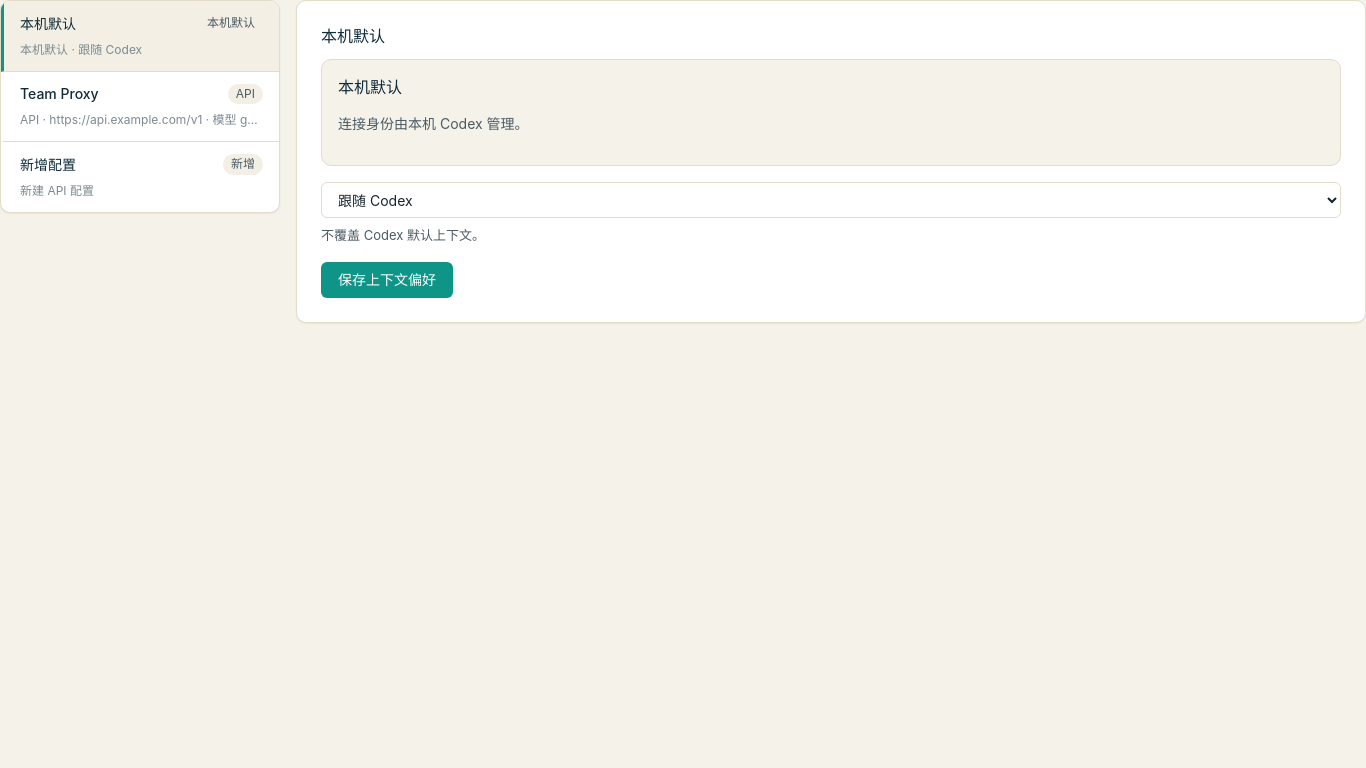
Scenario: CodexProfileSection › keeps api keys empty on edit and allows readonly profiles to change context
This screenshot has width=1366, height=768.
Click the button "Team Proxy".
click(59, 94)  # box [1,72,279,142]
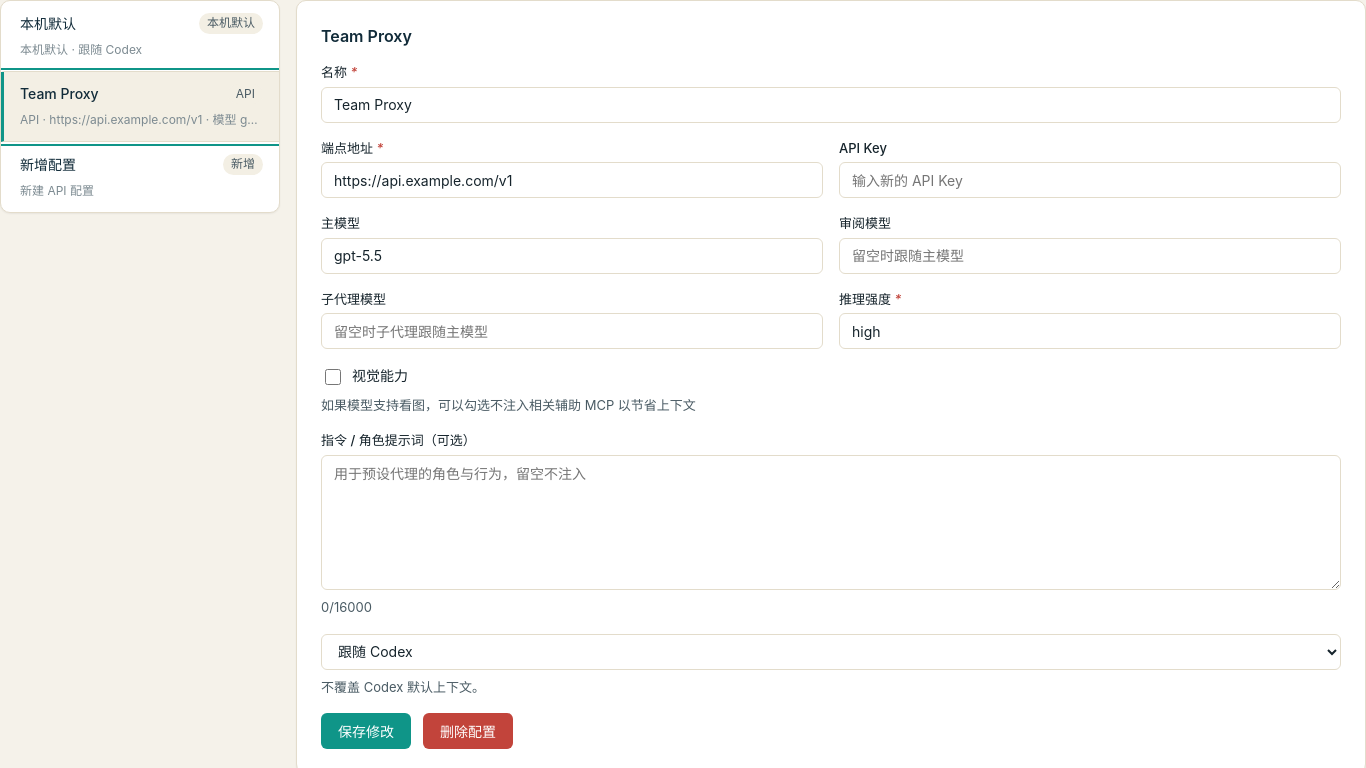
Expected: the password field with placeholder "输入新的 API Key" is empty, [839,162,1341,198]
Replace the text in the field labelled "名称 *" with "Team Proxy 2" at [831, 105], box [321,87,1341,123]
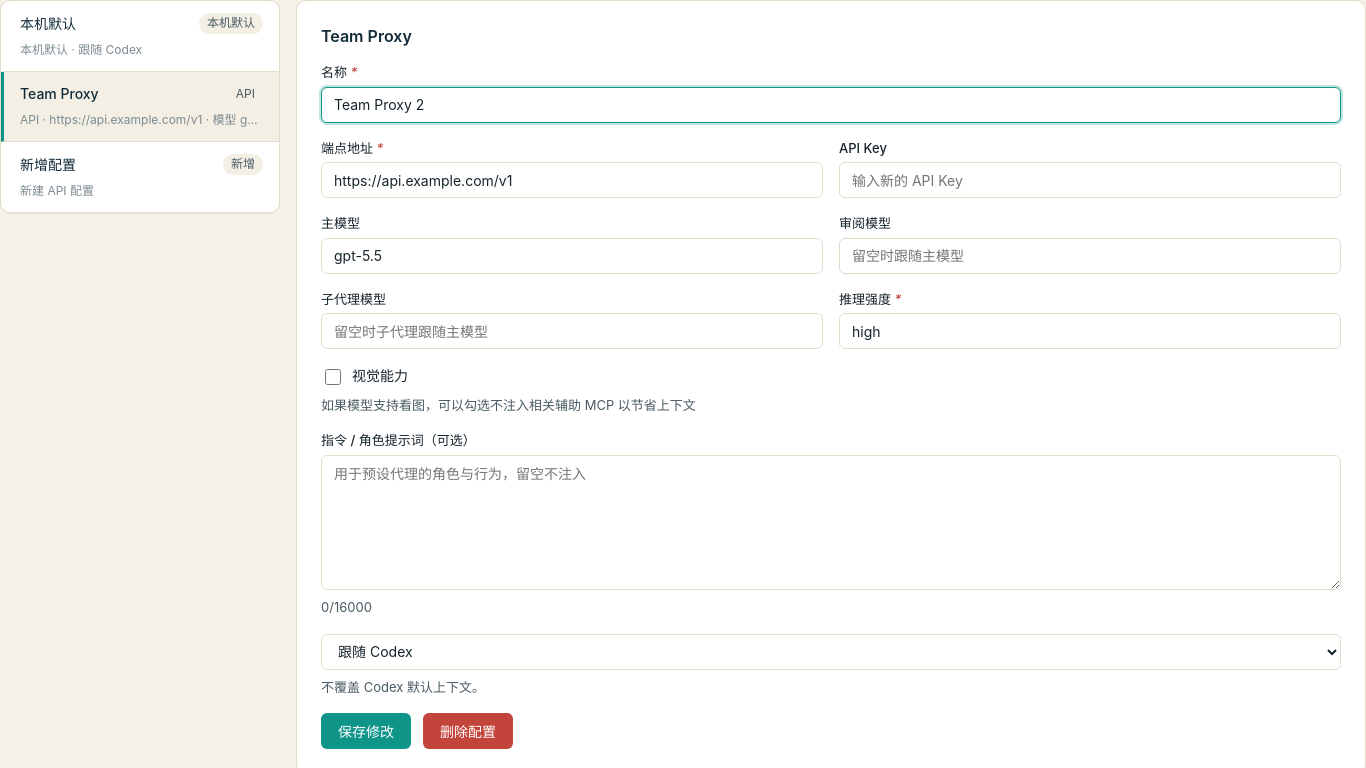
Click the button "保存修改".
click(366, 731)  # box [321,713,411,749]
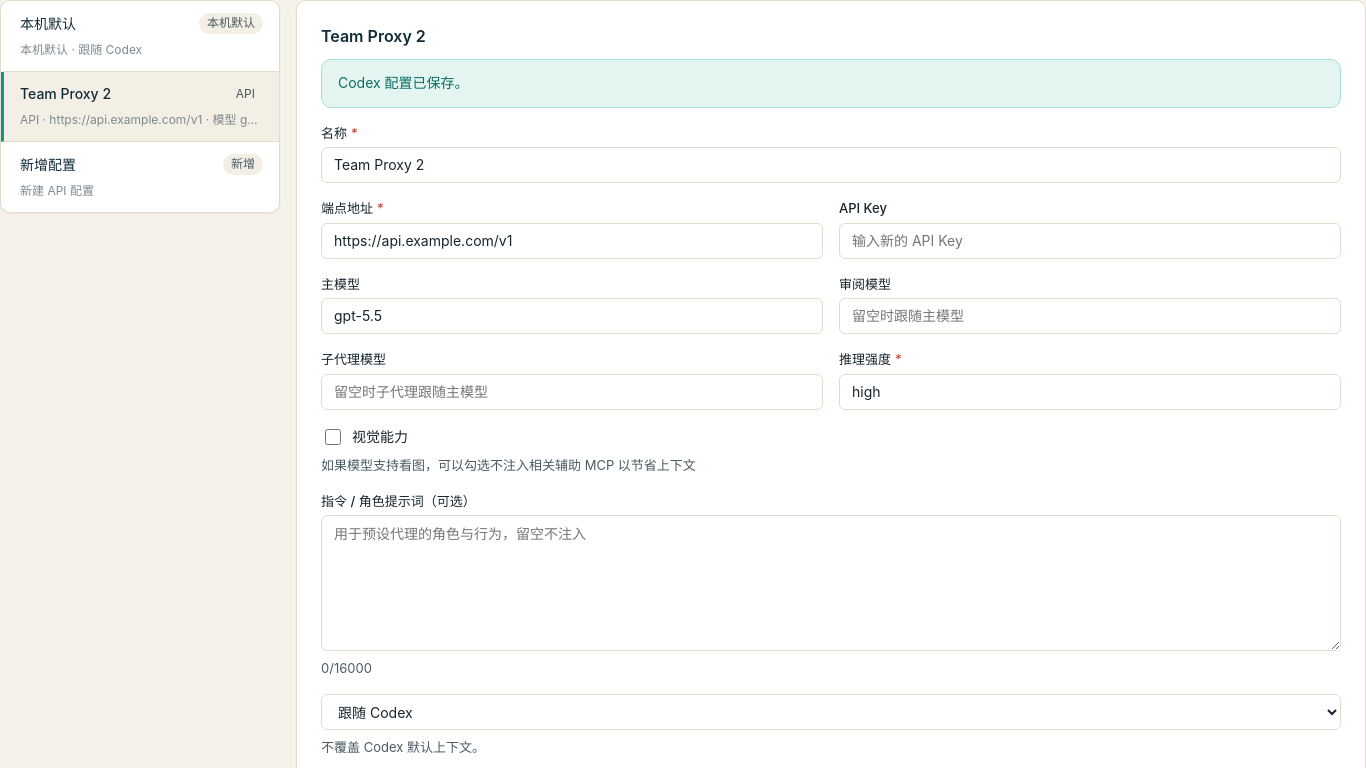
Expected: the text "Codex 配置已保存。" is shown, [321,59,1341,108]
Click the button "本机默认 本机默认 本机默认 · 跟随 Codex".
click(48, 23)  # box [1,1,279,72]
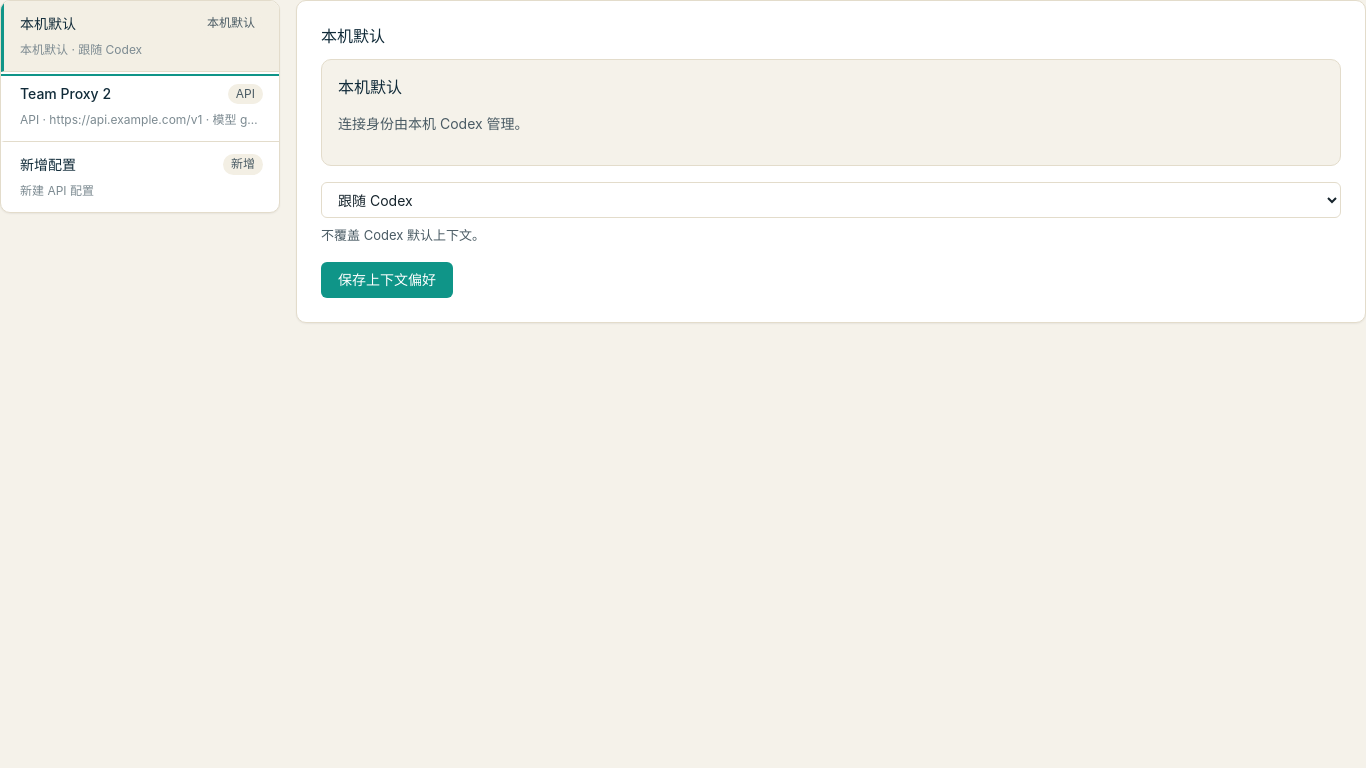
Expected: the text "连接身份由本机 Codex 管理。" is shown, [338,115,529,132]
Select "272K（费用优先）" in the dropdown named "上下文大小" at [831, 200], box [321,182,1341,218]
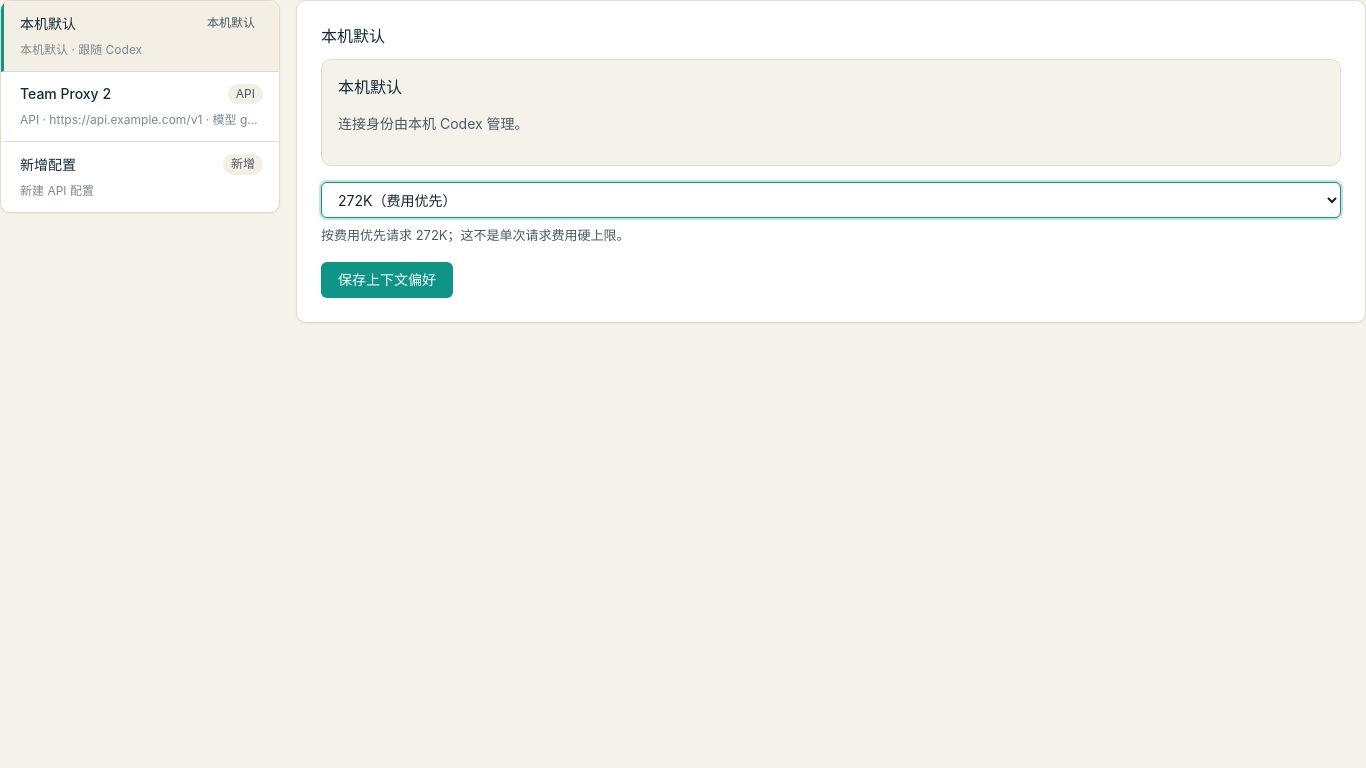
Expected: the text "按费用优先请求 272K；这不是单次请求费用硬上限。" is shown, [321,227,630,243]
Click the button "保存上下文偏好".
click(387, 280)  # box [321,262,453,298]
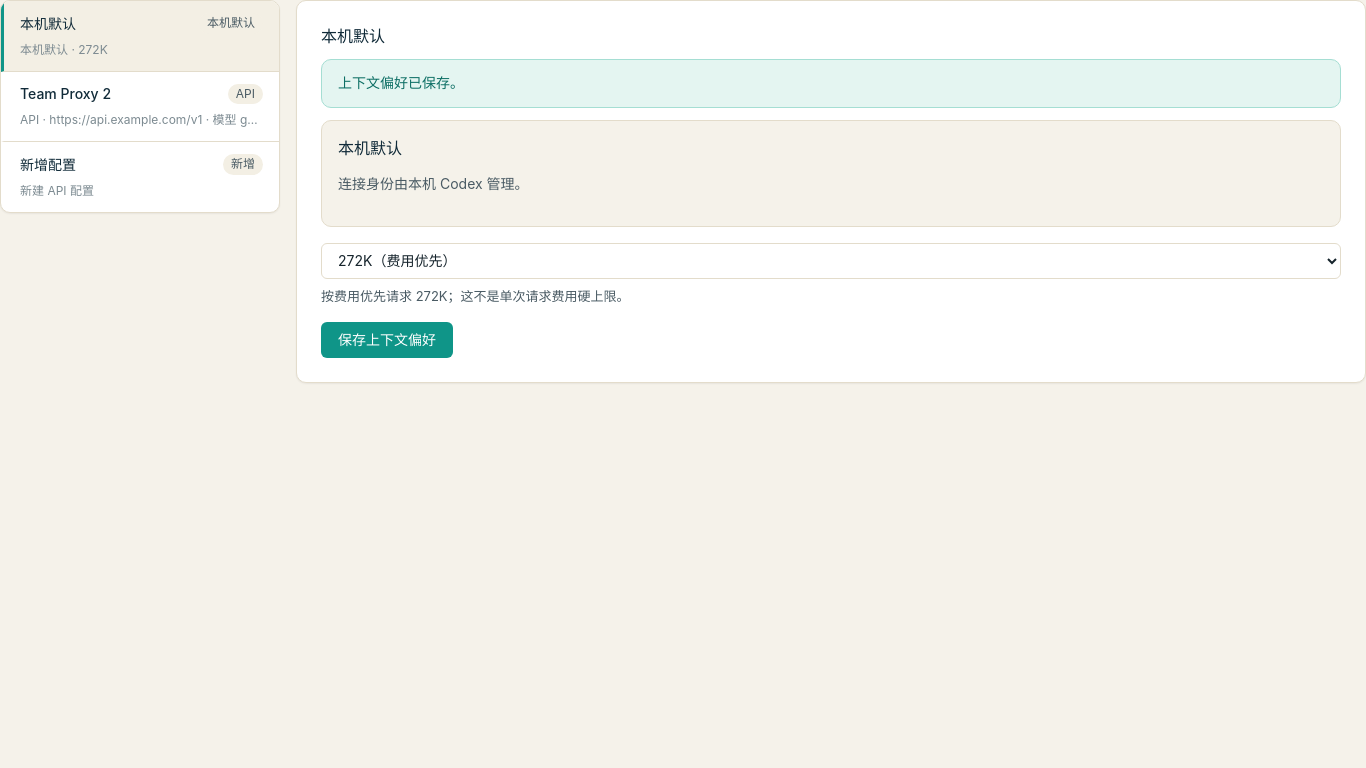
Expected: the text "上下文偏好已保存。" is shown, [321,59,1341,108]
